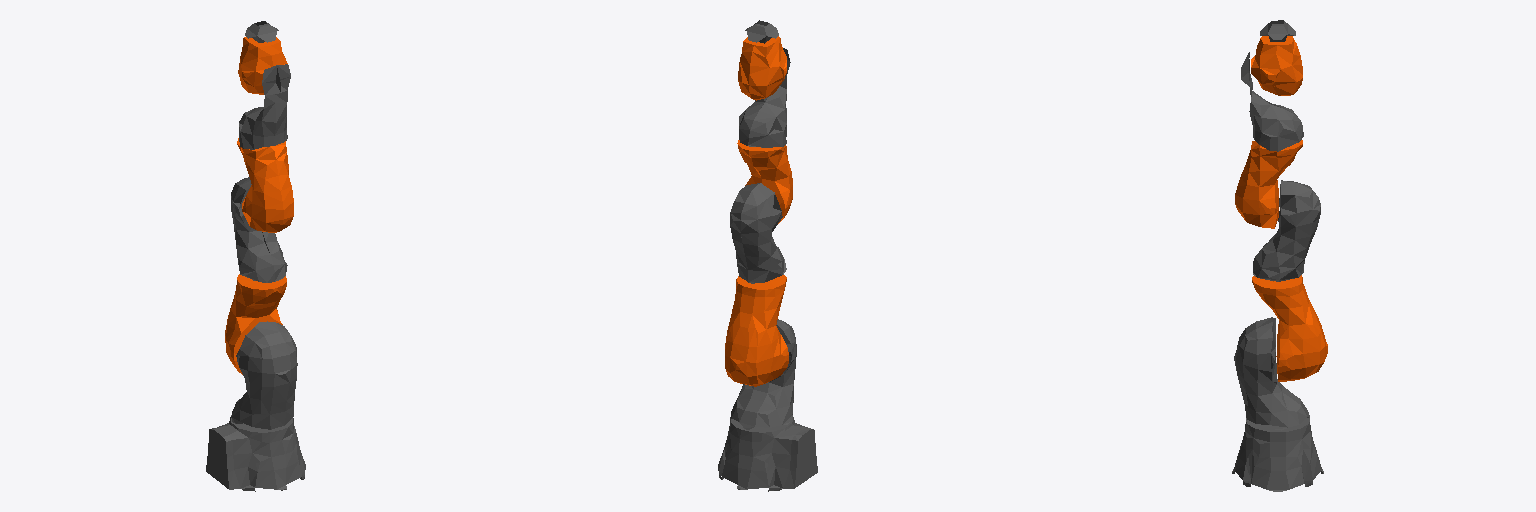
The robot description file, URDF, robot "iiwa14":
<?xml version="1.0" ?>
<!-- =================================================================================== -->
<!-- |    This document was autogenerated by xacro from urdf/iiwa14_mesh_decimated_collison.urdf.xacro | -->
<!-- |    EDITING THIS FILE BY HAND IS NOT RECOMMENDED                                 | -->
<!-- =================================================================================== -->
<!-- ===================================================================== -->
<!-- Collision models: complex meshes can drastically affect run time.
     Therefore most collision models are omitted in this model and link 7 uses a
     polytope model.
-->
<!-- ===================================================================== -->
<robot name="iiwa14" xmlns:xacro="http://www.ros.org/wiki/xacro">
  <!-- Import Rviz colors -->
  <material name="Black">
    <color rgba="0.0 0.0 0.0 1.0"/>
  </material>
  <material name="Blue">
    <color rgba="0.0 0.0 0.8 1.0"/>
  </material>
  <material name="Green">
    <color rgba="0.0 0.8 0.0 1.0"/>
  </material>
  <material name="Grey">
    <color rgba="0.4 0.4 0.4 1.0"/>
  </material>
  <material name="Orange">
    <color rgba="1.0 0.423529411765 0.0392156862745 1.0"/>
  </material>
  <material name="Brown">
    <color rgba="0.870588235294 0.811764705882 0.764705882353 1.0"/>
  </material>
  <material name="Red">
    <color rgba="0.8 0.0 0.0 1.0"/>
  </material>
  <material name="White">
    <color rgba="1.0 1.0 1.0 1.0"/>
  </material>
  <!-- Defines a base link that will serve as the model's root. -->
  <link name="base"/>
  <!--joint between {parent} and link_0-->
  <joint name="iiwa_base_joint" type="fixed">
    <origin rpy="0 0 0" xyz="0 0 0"/>
    <parent link="base"/>
    <child link="iiwa_link_0"/>
  </joint>
  <link name="iiwa_link_0">
    <inertial>
      <origin rpy="0 0 0" xyz="-0.1 0 0.07"/>
      <mass value="5"/>
      <inertia ixx="0.05" ixy="0" ixz="0" iyy="0.06" iyz="0" izz="0.03"/>
    </inertial>
    <visual>
      <origin rpy="0 0 0" xyz="0 0 0"/>
      <geometry>
        <mesh filename="../meshes/visual/link_0.obj"/>
      </geometry>
      <material name="Grey"/>
    </visual>
    <collision>
      <origin rpy="0 0 0" xyz="0 0 0"/>
      <geometry>
        <mesh filename="../meshes/collision/decimated/link_0.obj"/>
      </geometry>
      <material name="Grey"/>
    </collision>
    <self_collision_checking>
      <origin rpy="0 0 0" xyz="0 0 0"/>
      <geometry>
        <capsule length="0.25" radius="0.15"/>
      </geometry>
    </self_collision_checking>
  </link>
  <!-- joint between link_0 and link_1 -->
  <joint name="iiwa_joint_1" type="revolute">
    <parent link="iiwa_link_0"/>
    <child link="iiwa_link_1"/>
    <origin rpy="0 0 0" xyz="0 0 0.1575"/>
    <axis xyz="0 0 1"/>
    <limit effort="300" lower="-2.96705972839" upper="2.96705972839" velocity="10"/>
    <safety_controller k_position="100" k_velocity="2" soft_lower_limit="-2.93215314335" soft_upper_limit="2.93215314335"/>
    <dynamics damping="0.5"/>
  </joint>
  <link name="iiwa_link_1">
    <inertial>
      <origin rpy="0 0 0" xyz="0 -0.03 0.12"/>
      <mass value="5.76"/>
      <inertia ixx="0.033" ixy="0" ixz="0" iyy="0.0333" iyz="0" izz="0.0123"/>
    </inertial>
    <visual>
      <origin rpy="0 0 0" xyz="0 0 0"/>
      <geometry>
        <mesh filename="../meshes/visual/link_1.obj"/>
      </geometry>
      <material name="Grey"/>
    </visual>
    <collision>
      <origin rpy="0 0 0" xyz="0 0 0"/>
      <geometry>
        <mesh filename="../meshes/collision/decimated/link_1.obj"/>
      </geometry>
      <material name="Grey"/>
    </collision>
  </link>
  <!-- joint between link_1 and link_2 -->
  <joint name="iiwa_joint_2" type="revolute">
    <parent link="iiwa_link_1"/>
    <child link="iiwa_link_2"/>
    <origin rpy="1.57079632679   0 3.14159265359" xyz="0 0 0.2025"/>
    <axis xyz="0 0 1"/>
    <limit effort="300" lower="-2.09439510239" upper="2.09439510239" velocity="10"/>
    <safety_controller k_position="100" k_velocity="2" soft_lower_limit="-2.05948851735" soft_upper_limit="2.05948851735"/>
    <dynamics damping="0.5"/>
  </joint>
  <link name="iiwa_link_2">
    <inertial>
      <origin rpy="0 0 0" xyz="0.0003 0.059 0.042"/>
      <mass value="6.35"/>
      <!-- 3.95 kuka CAD value-->
      <!--4 Original Drake URDF value-->
      <inertia ixx="0.0305" ixy="0" ixz="0" iyy="0.0304" iyz="0" izz="0.011"/>
    </inertial>
    <visual>
      <origin rpy="0 0 0" xyz="0 0 0"/>
      <geometry>
        <mesh filename="../meshes/visual/link_2.obj"/>
      </geometry>
      <material name="Orange"/>
    </visual>
    <collision>
      <origin rpy="0 0 0" xyz="0 0 0"/>
      <geometry>
        <mesh filename="../meshes/collision/decimated/link_2.obj"/>
      </geometry>
      <material name="Orange"/>
    </collision>
  </link>
  <!-- joint between link_2 and link_3 -->
  <joint name="iiwa_joint_3" type="revolute">
    <parent link="iiwa_link_2"/>
    <child link="iiwa_link_3"/>
    <origin rpy="1.57079632679 0 3.14159265359" xyz="0 0.2045 0"/>
    <axis xyz="0 0 1"/>
    <limit effort="300" lower="-2.96705972839" upper="2.96705972839" velocity="10"/>
    <safety_controller k_position="100" k_velocity="2" soft_lower_limit="-2.05948851735" soft_upper_limit="2.05948851735"/>
    <dynamics damping="0.5"/>
  </joint>
  <link name="iiwa_link_3">
    <inertial>
      <origin rpy="0 0 0" xyz="0 0.03 0.13"/>
      <mass value="3.5"/>
      <!--3.18 kuka CAD value-->
      <!--3 Original Drake URDF value-->
      <inertia ixx="0.025" ixy="0" ixz="0" iyy="0.0238" iyz="0" izz="0.0076"/>
    </inertial>
    <visual>
      <origin rpy="0 0 0" xyz="0 0 0"/>
      <geometry>
        <mesh filename="../meshes/visual/link_3.obj"/>
      </geometry>
      <material name="Grey"/>
    </visual>
    <collision>
      <origin rpy="0 0 0" xyz="0 0 0"/>
      <geometry>
        <mesh filename="../meshes/collision/decimated/link_3.obj"/>
      </geometry>
      <material name="Grey"/>
    </collision>
  </link>
  <!-- joint between link_3 and link_4 -->
  <joint name="iiwa_joint_4" type="revolute">
    <parent link="iiwa_link_3"/>
    <child link="iiwa_link_4"/>
    <origin rpy="1.57079632679 0 0" xyz="0 0 0.2155"/>
    <axis xyz="0 0 1"/>
    <limit effort="300" lower="-2.09439510239" upper="2.09439510239" velocity="10"/>
    <safety_controller k_position="100" k_velocity="2" soft_lower_limit="-2.05948851735" soft_upper_limit="2.05948851735"/>
    <dynamics damping="0.5"/>
  </joint>
  <link name="iiwa_link_4">
    <inertial>
      <origin rpy="0 0 0" xyz="0 0.067 0.034"/>
      <mass value="3.5"/>
      <!--2.74 kuka CAD value-->
      <!--2.7 Original Drake URDF value-->
      <inertia ixx="0.017" ixy="0" ixz="0" iyy="0.0164" iyz="0" izz="0.006"/>
    </inertial>
    <visual>
      <origin rpy="0 0 0" xyz="0 0 0"/>
      <geometry>
        <mesh filename="../meshes/visual/link_4.obj"/>
      </geometry>
      <material name="Orange"/>
    </visual>
    <collision>
      <origin rpy="0 0 0" xyz="0 0 0"/>
      <geometry>
        <mesh filename="../meshes/collision/decimated/link_4.obj"/>
      </geometry>
      <material name="Orange"/>
    </collision>
  </link>
  <!-- joint between link_4 and link_5 -->
  <joint name="iiwa_joint_5" type="revolute">
    <parent link="iiwa_link_4"/>
    <child link="iiwa_link_5"/>
    <origin rpy="-1.57079632679 3.14159265359 0" xyz="0 0.1845 0"/>
    <axis xyz="0 0 1"/>
    <limit effort="300" lower="-2.96705972839" upper="2.96705972839" velocity="10"/>
    <safety_controller k_position="100" k_velocity="2" soft_lower_limit="-2.05948851735" soft_upper_limit="2.05948851735"/>
    <dynamics damping="0.5"/>
  </joint>
  <link name="iiwa_link_5">
    <inertial>
      <origin rpy="0 0 0" xyz="0.0001 0.021 0.076"/>
      <mass value="3.5"/>
      <!--1.69 kuka CAD value-->
      <!--1.7 Original Drake URDF value-->
      <inertia ixx="0.01" ixy="0" ixz="0" iyy="0.0087" iyz="0" izz="0.00449"/>
    </inertial>
    <visual>
      <origin rpy="0 0 0" xyz="0 0 0"/>
      <geometry>
        <mesh filename="../meshes/visual/link_5.obj"/>
      </geometry>
      <material name="Grey"/>
    </visual>
    <collision>
      <origin rpy="0 0 0" xyz="0 0 0"/>
      <geometry>
        <mesh filename="../meshes/collision/decimated/link_5.obj"/>
      </geometry>
      <material name="Grey"/>
    </collision>
  </link>
  <!-- joint between link_5 and link_6 -->
  <joint name="iiwa_joint_6" type="revolute">
    <parent link="iiwa_link_5"/>
    <child link="iiwa_link_6"/>
    <origin rpy="1.57079632679 0 0" xyz="0 0 0.2155"/>
    <axis xyz="0 0 1"/>
    <limit effort="300" lower="-2.09439510239" upper="2.09439510239" velocity="10"/>
    <safety_controller k_position="100" k_velocity="2" soft_lower_limit="-2.05948851735" soft_upper_limit="2.05948851735"/>
    <dynamics damping="0.5"/>
  </joint>
  <link name="iiwa_link_6">
    <inertial>
      <origin rpy="0 0 0" xyz="0 0.0006 0.0004"/>
      <mass value="1.8"/>
      <!--1.8 kuka CAD value-->
      <!--1.8 Original Drake URDF value-->
      <inertia ixx="0.0049" ixy="0" ixz="0" iyy="0.0047" iyz="0" izz="0.0036"/>
    </inertial>
    <visual>
      <origin rpy="0 0 0" xyz="0 0 0"/>
      <geometry>
        <mesh filename="../meshes/visual/link_6.obj"/>
      </geometry>
      <material name="Orange"/>
    </visual>
    <collision>
      <origin rpy="0 0 0" xyz="0 0 0"/>
      <geometry>
        <mesh filename="../meshes/collision/decimated/link_6.obj"/>
      </geometry>
      <material name="Orange"/>
    </collision>
  </link>
  <!-- joint between link_6 and link_7 -->
  <joint name="iiwa_joint_7" type="revolute">
    <parent link="iiwa_link_6"/>
    <child link="iiwa_link_7"/>
    <origin rpy="-1.57079632679 3.14159265359 0" xyz="0 0.081 0"/>
    <axis xyz="0 0 1"/>
    <limit effort="300" lower="-3.05432619099" upper="3.05432619099" velocity="10"/>
    <safety_controller k_position="100" k_velocity="2" soft_lower_limit="-3.01941960595" soft_upper_limit="3.01941960595"/>
    <dynamics damping="0.5"/>
  </joint>
  <link name="iiwa_link_7">
    <inertial>
      <origin rpy="0 0 0" xyz="0 0 0.02"/>
      <mass value="1.2"/>
      <!--0.31 kuka CAD value-->
      <!--0.3 Original Drake URDF value-->
      <inertia ixx="0.001" ixy="0" ixz="0" iyy="0.001" iyz="0" izz="0.001"/>
    </inertial>
    <visual>
      <origin rpy="0 0 0" xyz="0 0 0"/>
      <geometry>
        <mesh filename="../meshes/visual/link_7.obj"/>
      </geometry>
      <material name="Grey"/>
    </visual>
    <collision>
      <origin rpy="0 0 0" xyz="0 0 0"/>
      <geometry>
        <mesh filename="../meshes/collision/decimated/link_7.obj"/>
      </geometry>
      <material name="Grey"/>
    </collision>
  </link>
  <joint name="iiwa_joint_ee" type="fixed">
    <parent link="iiwa_link_7"/>
    <child link="iiwa_link_ee_kuka"/>
    <origin rpy="3.14159265359 3.14159265359 3.14159265359" xyz="0 0 0.045"/>
    <axis xyz="0 0 1"/>
  </joint>
  <link name="iiwa_link_ee_kuka">
    </link>
  <joint name="tool0_joint" type="fixed">
    <parent link="iiwa_link_7"/>
    <child link="iiwa_link_ee"/>
    <origin rpy="0 -1.57079632679 0" xyz="0 0 0.045"/>
  </joint>
  <link name="iiwa_link_ee">
    </link>
  <frame link="iiwa_link_ee" name="iiwa_frame_ee" rpy="3.14159265359 0 1.57079632679" xyz="0.09 0 0"/>
  <!-- Load Gazebo lib and set the robot namespace -->
  <gazebo>
    <plugin filename="libgazebo_ros_control.so" name="gazebo_ros_controller">
      <robotNamespace>/iiwa</robotNamespace>
    </plugin>
  </gazebo>
  <!-- Link0 -->
  <gazebo reference="iiwa_link_0">
    <material>Gazebo/Grey</material>
    <mu1>0.2</mu1>
    <mu2>0.2</mu2>
  </gazebo>
  <!-- Link1 -->
  <gazebo reference="iiwa_link_1">
    <material>Gazebo/Orange</material>
    <mu1>0.2</mu1>
    <mu2>0.2</mu2>
  </gazebo>
  <!-- Link2 -->
  <gazebo reference="iiwa_link_2">
    <material>Gazebo/Orange</material>
    <mu1>0.2</mu1>
    <mu2>0.2</mu2>
  </gazebo>
  <!-- Link3 -->
  <gazebo reference="iiwa_link_3">
    <material>Gazebo/Orange</material>
    <mu1>0.2</mu1>
    <mu2>0.2</mu2>
  </gazebo>
  <!-- Link4 -->
  <gazebo reference="iiwa_link_4">
    <material>Gazebo/Orange</material>
    <mu1>0.2</mu1>
    <mu2>0.2</mu2>
  </gazebo>
  <!-- Link5 -->
  <gazebo reference="iiwa_link_5">
    <material>Gazebo/Orange</material>
    <mu1>0.2</mu1>
    <mu2>0.2</mu2>
  </gazebo>
  <!-- Link6 -->
  <gazebo reference="iiwa_link_6">
    <material>Gazebo/Orange</material>
    <mu1>0.2</mu1>
    <mu2>0.2</mu2>
  </gazebo>
  <!-- Link7 -->
  <gazebo reference="iiwa_link_7">
    <material>Gazebo/Grey</material>
    <mu1>0.2</mu1>
    <mu2>0.2</mu2>
  </gazebo>
  <transmission name="iiwa_tran_1">
    <robotNamespace>/iiwa</robotNamespace>
    <type>transmission_interface/SimpleTransmission</type>
    <joint name="iiwa_joint_1">
      <hardwareInterface>PositionJointInterface</hardwareInterface>
    </joint>
    <actuator name="iiwa_motor_1">
      <hardwareInterface>PositionJointInterface</hardwareInterface>
      <mechanicalReduction>1</mechanicalReduction>
    </actuator>
  </transmission>
  <transmission name="iiwa_tran_2">
    <robotNamespace>/iiwa</robotNamespace>
    <type>transmission_interface/SimpleTransmission</type>
    <joint name="iiwa_joint_2">
      <hardwareInterface>PositionJointInterface</hardwareInterface>
    </joint>
    <actuator name="iiwa_motor_2">
      <hardwareInterface>PositionJointInterface</hardwareInterface>
      <mechanicalReduction>1</mechanicalReduction>
    </actuator>
  </transmission>
  <transmission name="iiwa_tran_3">
    <robotNamespace>/iiwa</robotNamespace>
    <type>transmission_interface/SimpleTransmission</type>
    <joint name="iiwa_joint_3">
      <hardwareInterface>PositionJointInterface</hardwareInterface>
    </joint>
    <actuator name="iiwa_motor_3">
      <hardwareInterface>PositionJointInterface</hardwareInterface>
      <mechanicalReduction>1</mechanicalReduction>
    </actuator>
  </transmission>
  <transmission name="iiwa_tran_4">
    <robotNamespace>/iiwa</robotNamespace>
    <type>transmission_interface/SimpleTransmission</type>
    <joint name="iiwa_joint_4">
      <hardwareInterface>PositionJointInterface</hardwareInterface>
    </joint>
    <actuator name="iiwa_motor_4">
      <hardwareInterface>PositionJointInterface</hardwareInterface>
      <mechanicalReduction>1</mechanicalReduction>
    </actuator>
  </transmission>
  <transmission name="iiwa_tran_5">
    <robotNamespace>/iiwa</robotNamespace>
    <type>transmission_interface/SimpleTransmission</type>
    <joint name="iiwa_joint_5">
      <hardwareInterface>PositionJointInterface</hardwareInterface>
    </joint>
    <actuator name="iiwa_motor_5">
      <hardwareInterface>PositionJointInterface</hardwareInterface>
      <mechanicalReduction>1</mechanicalReduction>
    </actuator>
  </transmission>
  <transmission name="iiwa_tran_6">
    <robotNamespace>/iiwa</robotNamespace>
    <type>transmission_interface/SimpleTransmission</type>
    <joint name="iiwa_joint_6">
      <hardwareInterface>PositionJointInterface</hardwareInterface>
    </joint>
    <actuator name="iiwa_motor_6">
      <hardwareInterface>PositionJointInterface</hardwareInterface>
      <mechanicalReduction>1</mechanicalReduction>
    </actuator>
  </transmission>
  <transmission name="iiwa_tran_7">
    <robotNamespace>/iiwa</robotNamespace>
    <type>transmission_interface/SimpleTransmission</type>
    <joint name="iiwa_joint_7">
      <hardwareInterface>PositionJointInterface</hardwareInterface>
    </joint>
    <actuator name="iiwa_motor_7">
      <hardwareInterface>PositionJointInterface</hardwareInterface>
      <mechanicalReduction>1</mechanicalReduction>
    </actuator>
  </transmission>
</robot>

--- Render facts (derived) ---
3 views of the same robot in one strip: view 1: azimuth 30°, elevation 25°; view 2: azimuth 150°, elevation 25°; view 3: azimuth 270°, elevation 25° (orthographic).
Robot: iiwa14 — 11 links, 10 joints (7 revolute, 3 fixed); root link base; default pose: every joint at zero.
Visible links, largest first — view 1: iiwa_link_0, iiwa_link_1, iiwa_link_4, iiwa_link_3, iiwa_link_2, iiwa_link_5, iiwa_link_6; view 2: iiwa_link_0, iiwa_link_2, iiwa_link_3, iiwa_link_1, iiwa_link_6, iiwa_link_5, iiwa_link_4; view 3: iiwa_link_0, iiwa_link_1, iiwa_link_2, iiwa_link_3, iiwa_link_4, iiwa_link_6, iiwa_link_5, iiwa_link_7.
Link boxes in pixels (bbox=[...]): iiwa_link_0: bbox=[206, 415, 305, 491]; iiwa_link_1: bbox=[231, 321, 297, 429]; iiwa_link_4: bbox=[237, 138, 293, 232]; iiwa_link_3: bbox=[231, 177, 287, 282]; iiwa_link_2: bbox=[225, 274, 286, 374]; iiwa_link_5: bbox=[239, 64, 290, 149]; iiwa_link_6: bbox=[238, 37, 287, 94]; iiwa_link_0: bbox=[718, 415, 817, 491]; iiwa_link_2: bbox=[725, 275, 788, 386]; iiwa_link_3: bbox=[730, 183, 786, 283]; iiwa_link_1: bbox=[731, 319, 796, 429]; iiwa_link_6: bbox=[738, 36, 786, 100]; iiwa_link_5: bbox=[739, 48, 790, 147]; iiwa_link_4: bbox=[737, 140, 792, 223]; iiwa_link_0: bbox=[1232, 418, 1323, 491]; iiwa_link_1: bbox=[1234, 317, 1309, 430]; iiwa_link_2: bbox=[1252, 275, 1327, 381]; iiwa_link_3: bbox=[1253, 180, 1320, 281]; iiwa_link_4: bbox=[1235, 140, 1302, 228]; iiwa_link_6: bbox=[1251, 36, 1302, 95]; iiwa_link_5: bbox=[1241, 52, 1303, 151]; iiwa_link_7: bbox=[1260, 20, 1295, 41].
Size in the robot's own frame: 0.2561 by 0.2525 by 1.31 metres.
8 mesh visuals loaded from 8 distinct referenced files (8 OBJ).